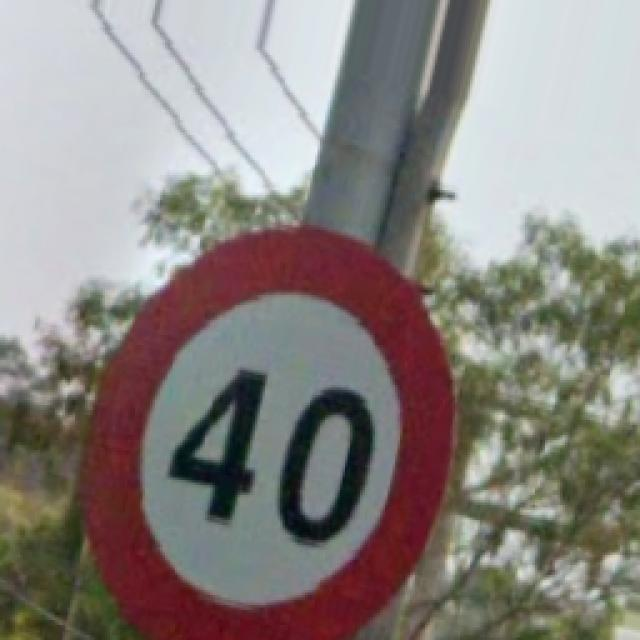Speed Limit -40-: (86, 228, 451, 635)
